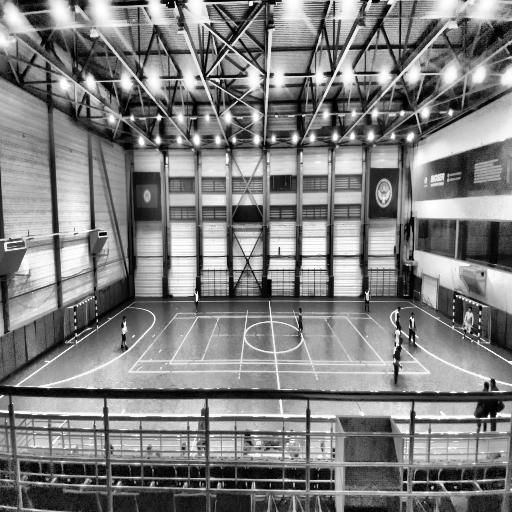player: (474, 378, 505, 431), (462, 305, 474, 341), (393, 346, 403, 388), (408, 311, 418, 348), (120, 314, 129, 352), (297, 308, 304, 340), (363, 287, 371, 313), (395, 338, 403, 358), (195, 284, 200, 314), (395, 304, 401, 329), (395, 325, 401, 345)
